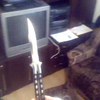knife: (26, 17, 47, 100)
